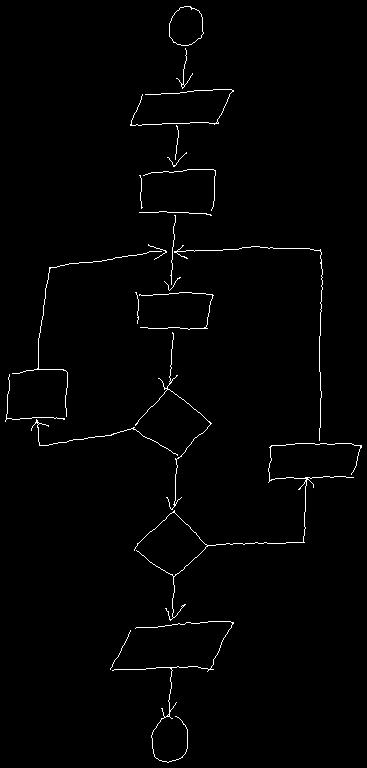arrow: (174, 245, 322, 440), (37, 244, 166, 368), (207, 477, 313, 545), (31, 419, 134, 445), (164, 215, 180, 290), (158, 332, 177, 389), (165, 577, 185, 620), (167, 125, 186, 166), (166, 458, 181, 509), (161, 667, 176, 717), (176, 48, 192, 88)
connection: (151, 716, 187, 762), (169, 6, 203, 45)
data: (110, 621, 233, 671), (130, 89, 233, 125)
decision: (133, 388, 211, 458), (134, 510, 207, 577)
process: (268, 443, 361, 482), (139, 169, 215, 215), (5, 369, 67, 421), (135, 292, 213, 329)
